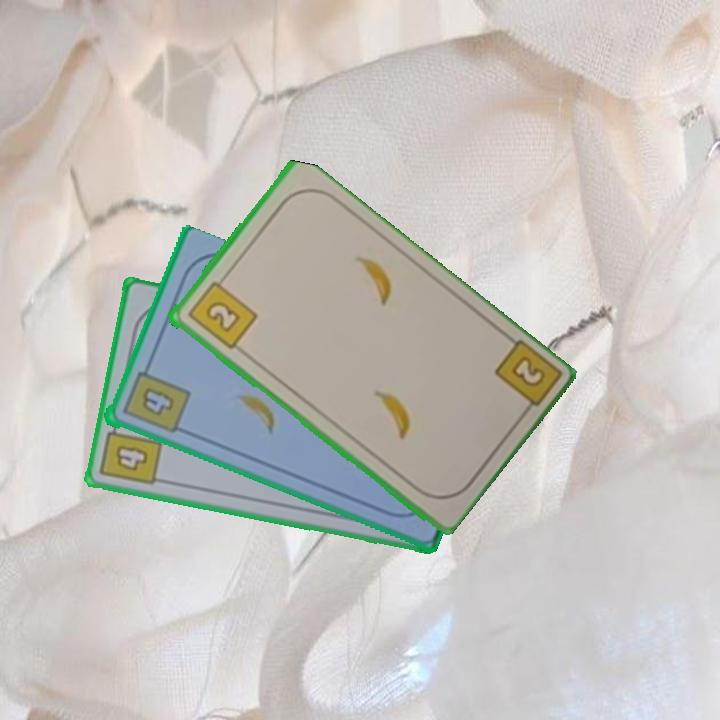2b: (183, 272, 260, 353), (490, 336, 561, 421)
4b: (118, 361, 192, 437), (96, 416, 165, 489)
